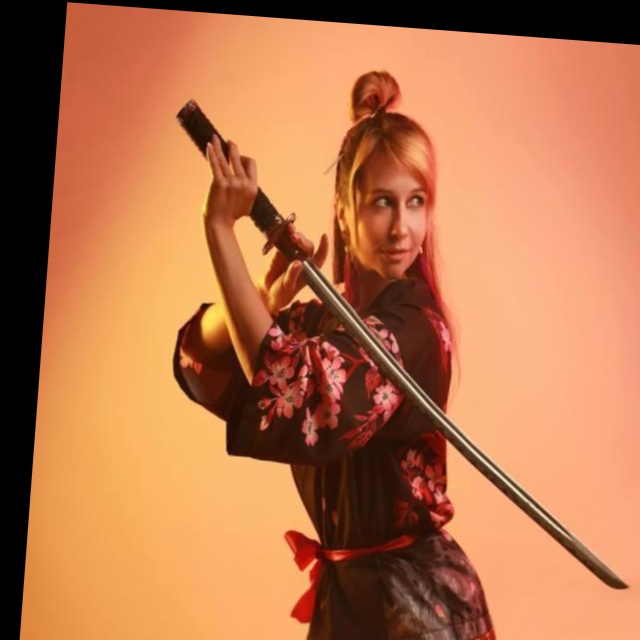Sharp-Object: (148, 97, 640, 589)
